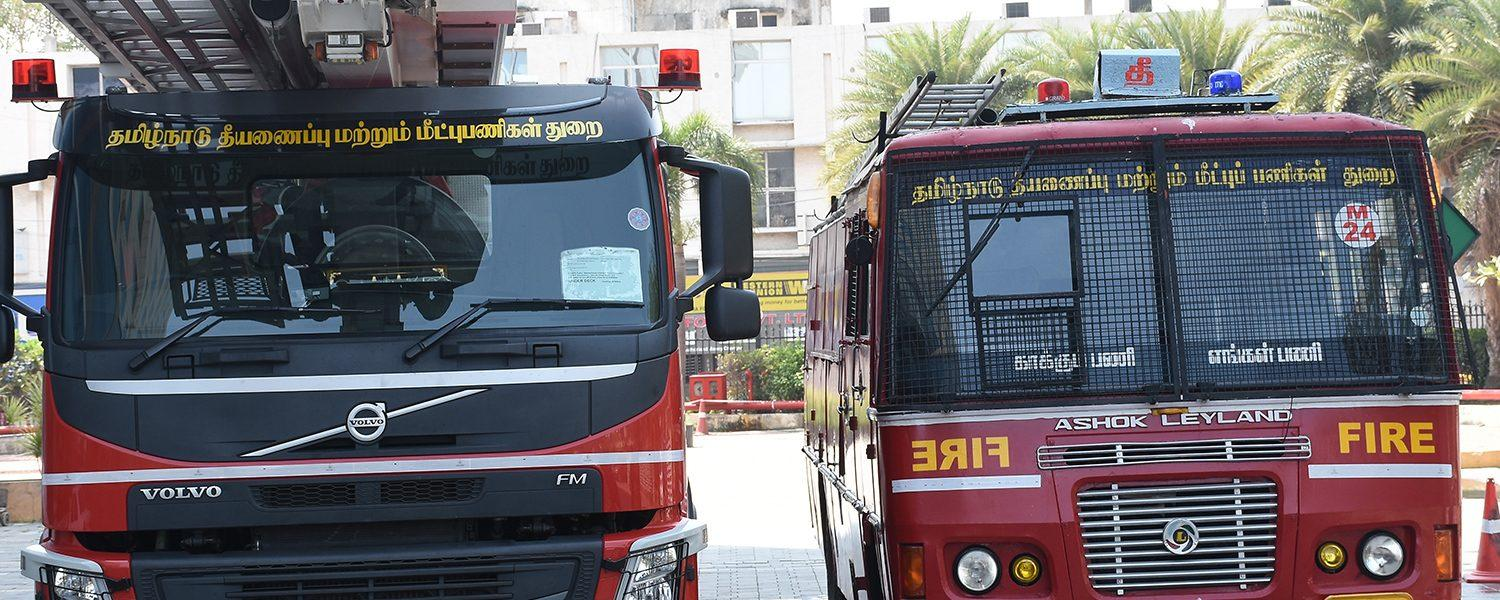ambulance: (7, 47, 740, 600), (849, 59, 1500, 600)
